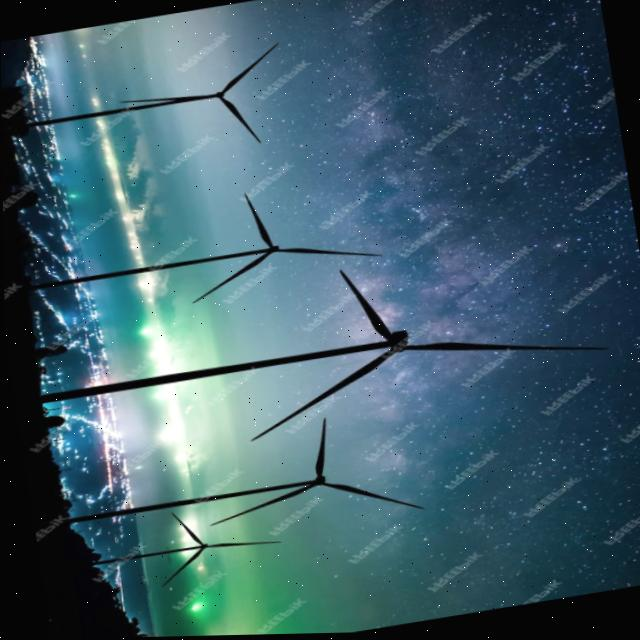solid-blade: (251, 351, 395, 440), (339, 273, 390, 342), (402, 344, 607, 353)
wind-turbine: (27, 197, 380, 304), (64, 422, 421, 524), (25, 45, 278, 142), (90, 514, 277, 587)
